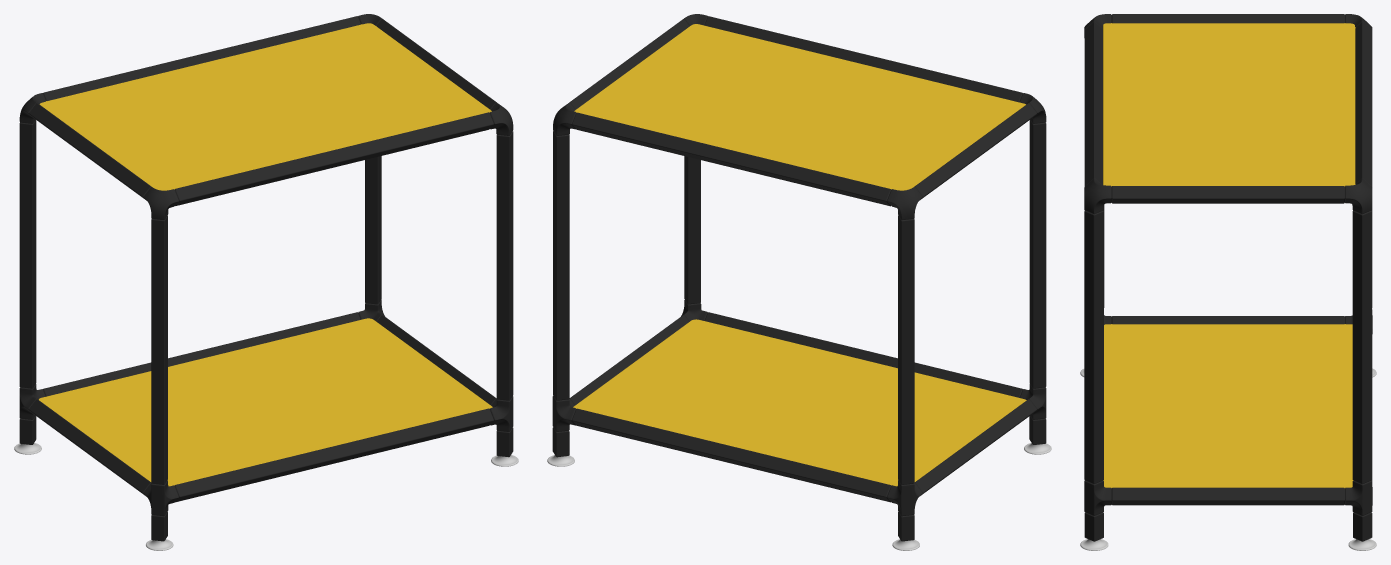
3 views of the same model, side by side, from view 1: azimuth 30°, elevation 25°; view 2: azimuth 150°, elevation 25°; view 3: azimuth 270°, elevation 25° (orthographic).
Visible parts, largest first — view 1: 523x329x420; view 2: 523x329x420; view 3: 523x329x420.
Boxes of the visible parts, x1,y1,x2,y2 form: 523x329x420: (14,14,518,550); 523x329x420: (547,14,1051,550); 523x329x420: (1080,14,1376,550).
Bounding box in the file's own units: 0.6129 × 0.5593 × 0.4182.
